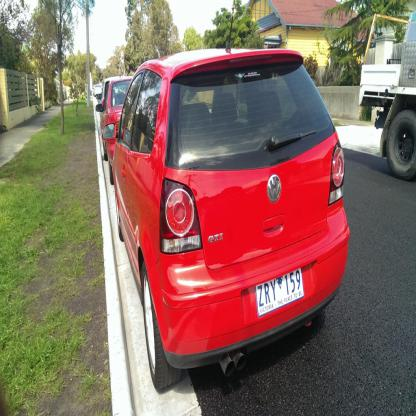Car: (93, 0, 350, 389)
Truck: (359, 12, 415, 180)
